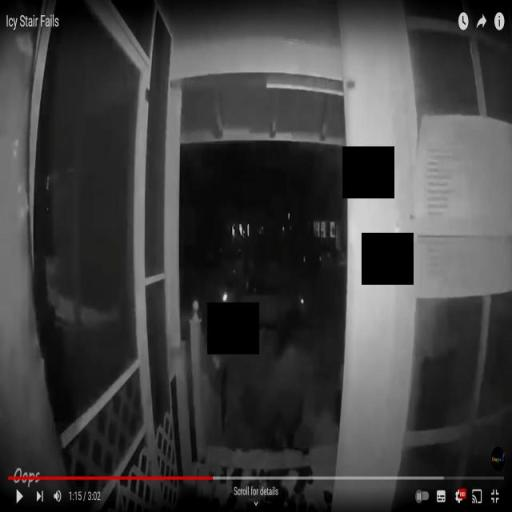Fall: (256, 308, 315, 451)
